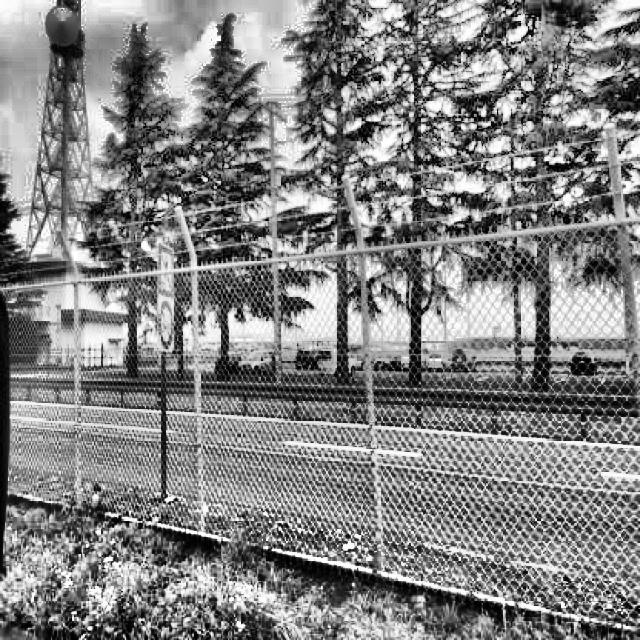A10: (233, 342, 265, 352), (280, 341, 308, 352), (200, 342, 220, 352)
